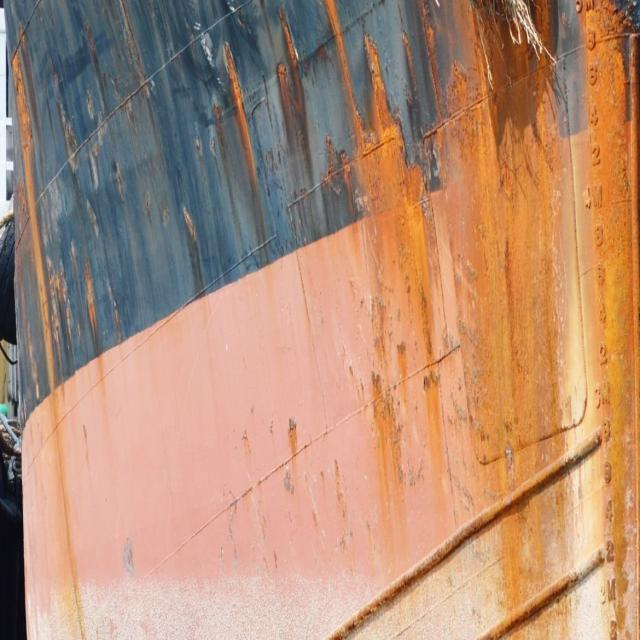Uniform Corrosion: (413, 3, 576, 639), (324, 0, 454, 558), (5, 36, 102, 639), (581, 0, 639, 638), (277, 10, 311, 180), (224, 43, 252, 160)
